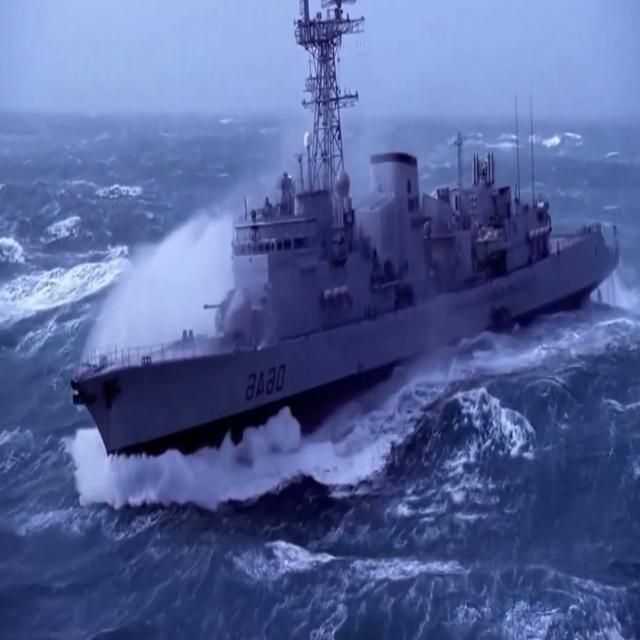navalvessels: (70, 12, 626, 465)
